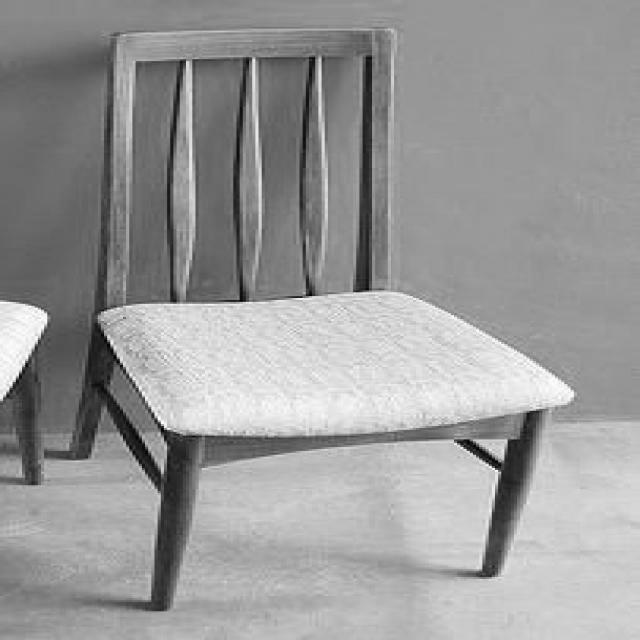chair: (70, 20, 572, 612)
